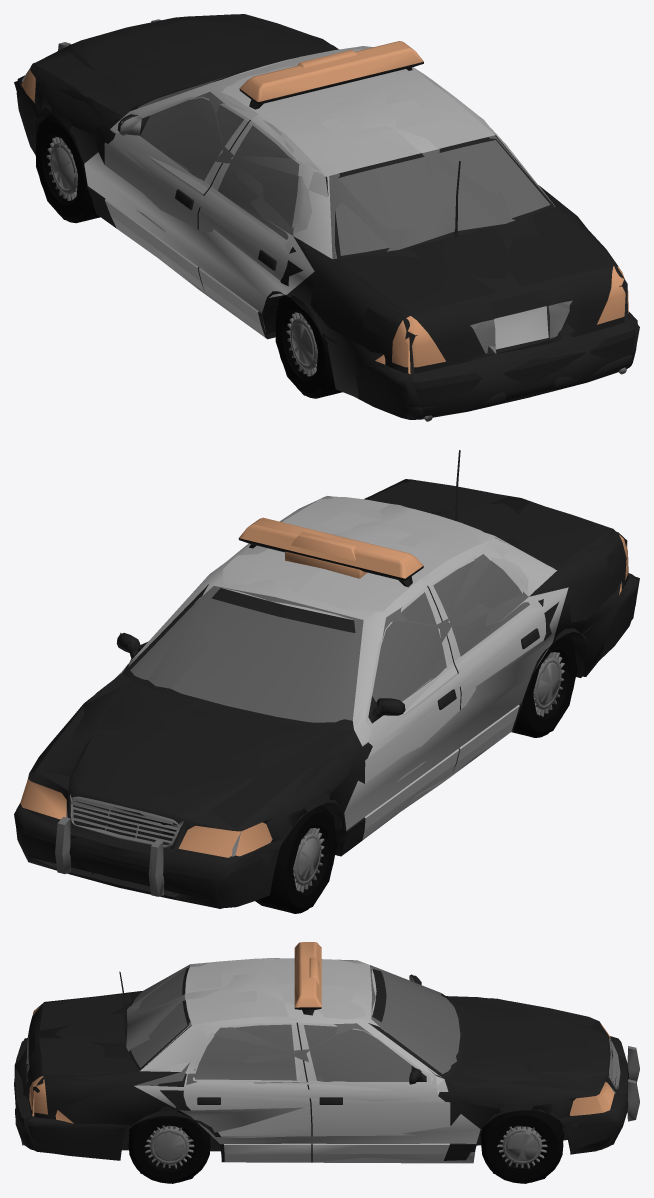
File: Police Car.fbx
3 renders of one model, top to bottom at view 1: azimuth 30°, elevation 25°; view 2: azimuth 150°, elevation 25°; view 3: azimuth 270°, elevation 25°, orthographic. The views are drawn at different scales.
Visible parts, largest first — view 1: Uni Car, Lod, Police; view 2: Uni Car, Lod, Police, Taxi; view 3: Uni Car, Lod, Police.
Part boxes in pixels (left/top/right/bottom): Uni Car: left=16, top=14, right=637, bottom=421; Lod: left=14, top=14, right=639, bottom=419; Police: left=58, top=19, right=460, bottom=237; Uni Car: left=16, top=479, right=637, bottom=913; Lod: left=14, top=479, right=639, bottom=913; Police: left=55, top=450, right=460, bottom=896; Taxi: left=285, top=532, right=367, bottom=578; Uni Car: left=14, top=958, right=628, bottom=1183; Lod: left=14, top=958, right=628, bottom=1183; Police: left=119, top=942, right=639, bottom=1121.
Size of the model in its own units: 200 by 158 by 517.
